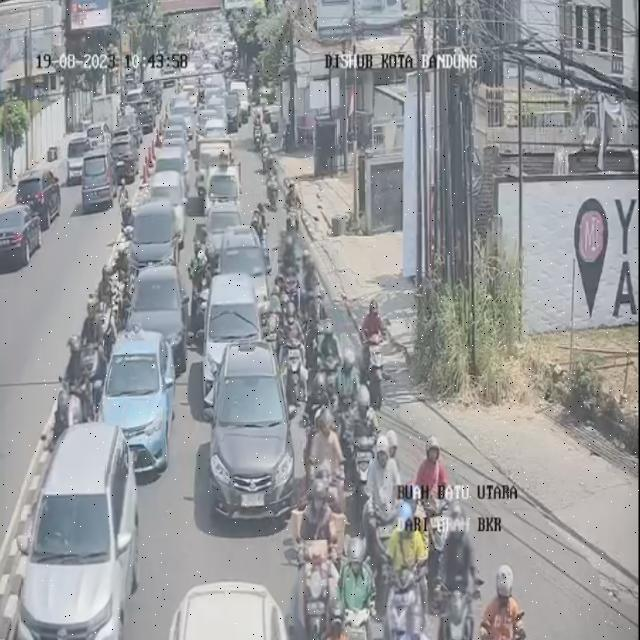cars: (21, 423, 146, 640), (211, 340, 297, 523), (106, 331, 178, 474), (154, 579, 300, 640), (201, 273, 257, 404), (135, 259, 188, 364), (130, 196, 180, 279), (222, 226, 269, 314), (202, 163, 238, 264), (151, 170, 188, 235), (206, 162, 241, 221), (157, 144, 190, 198), (196, 142, 227, 192), (202, 111, 227, 146), (172, 93, 194, 130)
motorcycle: (382, 501, 430, 640), (434, 503, 478, 639), (415, 434, 448, 590), (306, 410, 344, 537), (368, 434, 404, 568), (348, 388, 380, 528), (474, 565, 527, 640), (358, 295, 392, 405), (330, 347, 366, 442), (338, 534, 369, 640), (60, 338, 92, 440), (299, 540, 331, 638), (75, 294, 103, 383), (309, 352, 335, 428), (190, 242, 211, 336), (264, 275, 288, 351), (318, 320, 341, 392), (282, 316, 308, 376), (278, 218, 301, 280), (100, 263, 119, 332), (300, 252, 318, 310), (114, 244, 134, 294), (264, 154, 282, 208), (253, 199, 271, 248), (283, 182, 300, 230)
